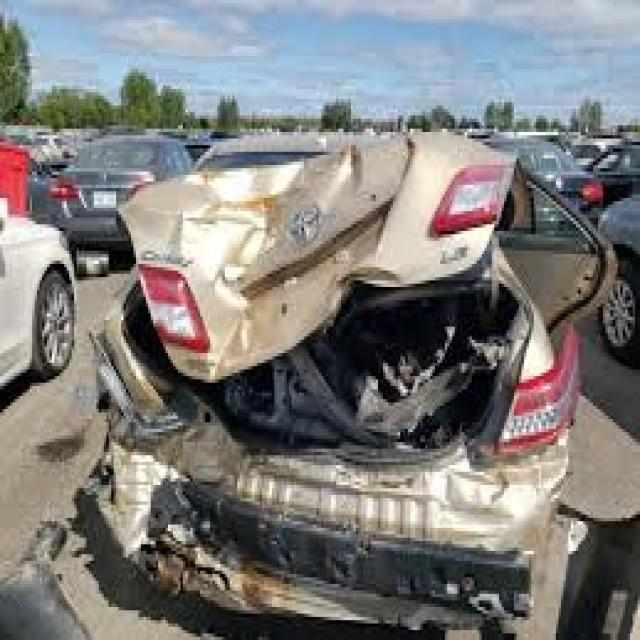damaged-trunk: (146, 144, 511, 415)
